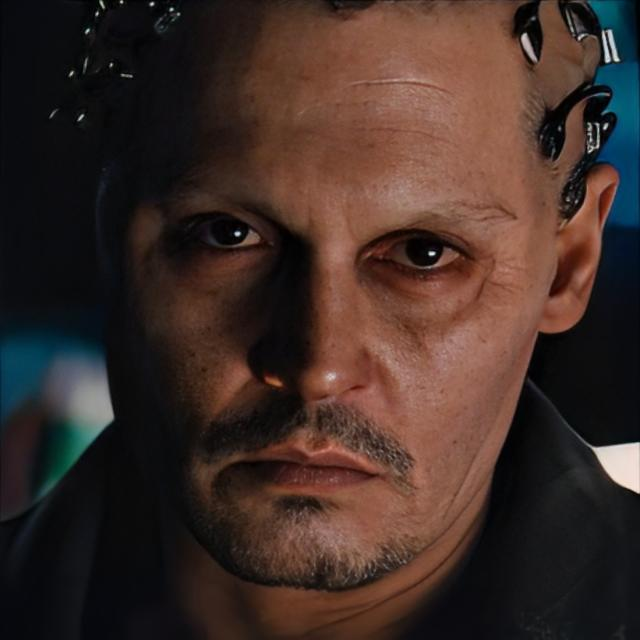anger: (89, 0, 556, 588)
